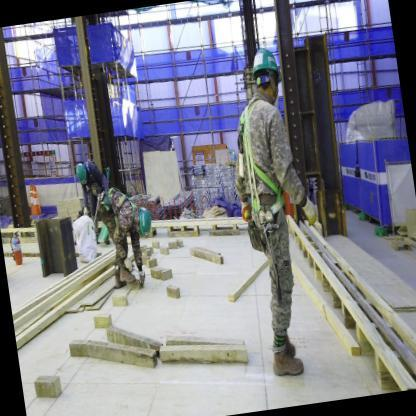Helmet: (246, 38, 288, 81), (136, 204, 159, 241)
safety-shoe: (264, 346, 310, 389), (111, 266, 137, 292)
